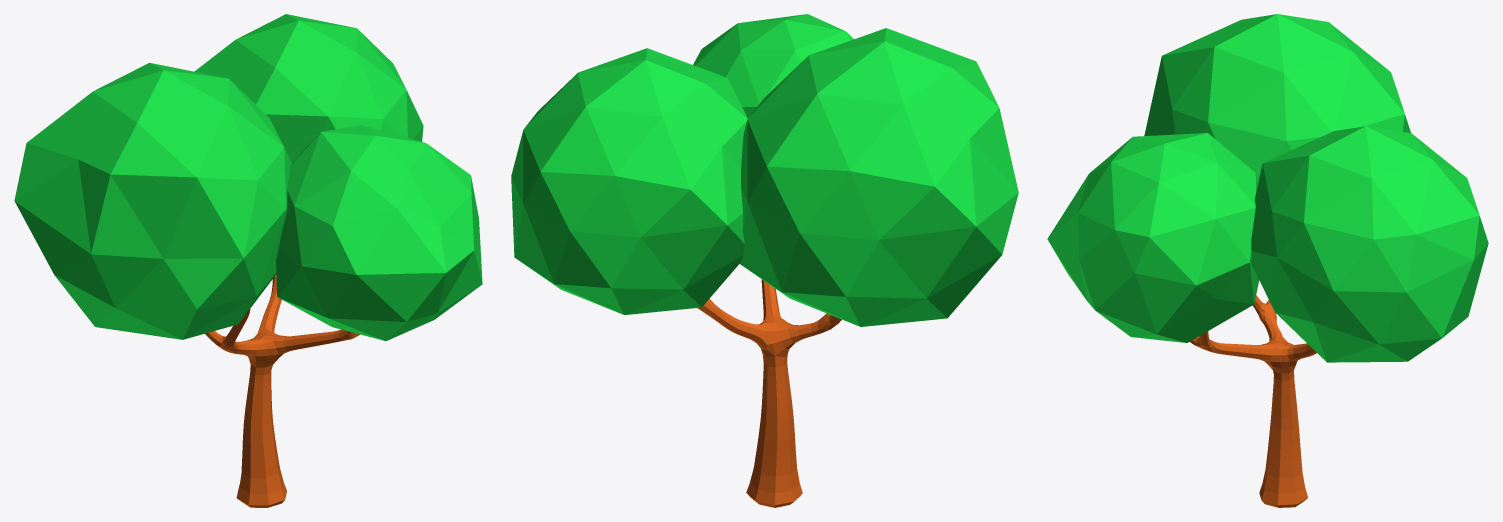
File: üçlüapaç.fbx
The picture shows the model from 3 angles, left to right: view 1: azimuth 30°, elevation 25°; view 2: azimuth 150°, elevation 25°; view 3: azimuth 270°, elevation 25°; orthographic projection. The views are drawn at different scales.
Visible parts, largest first — view 1: Icosphere.002, Plane; view 2: Icosphere.002, Plane; view 3: Icosphere.002, Plane.
Boxes of the visible parts, x1,y1,x2,y2 form: Icosphere.002: (14, 14, 482, 340); Plane: (205, 274, 359, 507); Icosphere.002: (511, 14, 1018, 326); Plane: (697, 279, 841, 507); Icosphere.002: (1047, 14, 1488, 362); Plane: (1190, 295, 1316, 507).
Bounding box in the file's own units: 1128 × 1212 × 1101.
